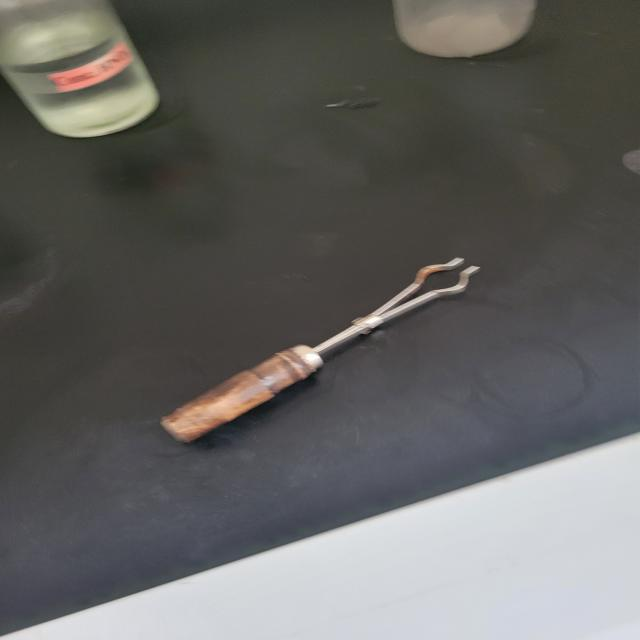TestTube_Holder: (117, 235, 504, 487)
